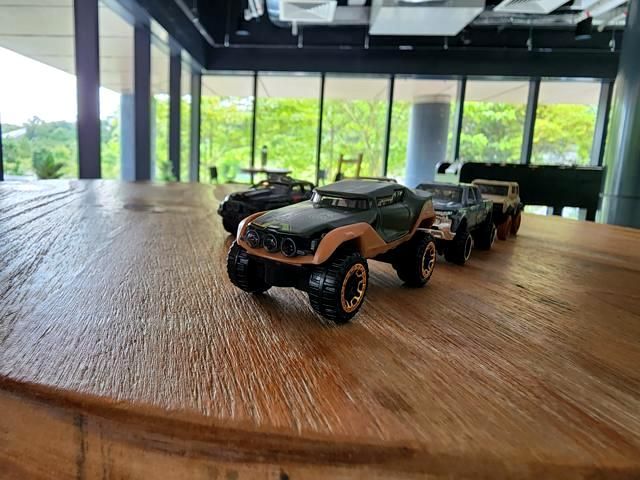toy-car: (226, 180, 437, 322), (413, 182, 497, 264), (217, 179, 316, 234), (471, 179, 524, 239)
